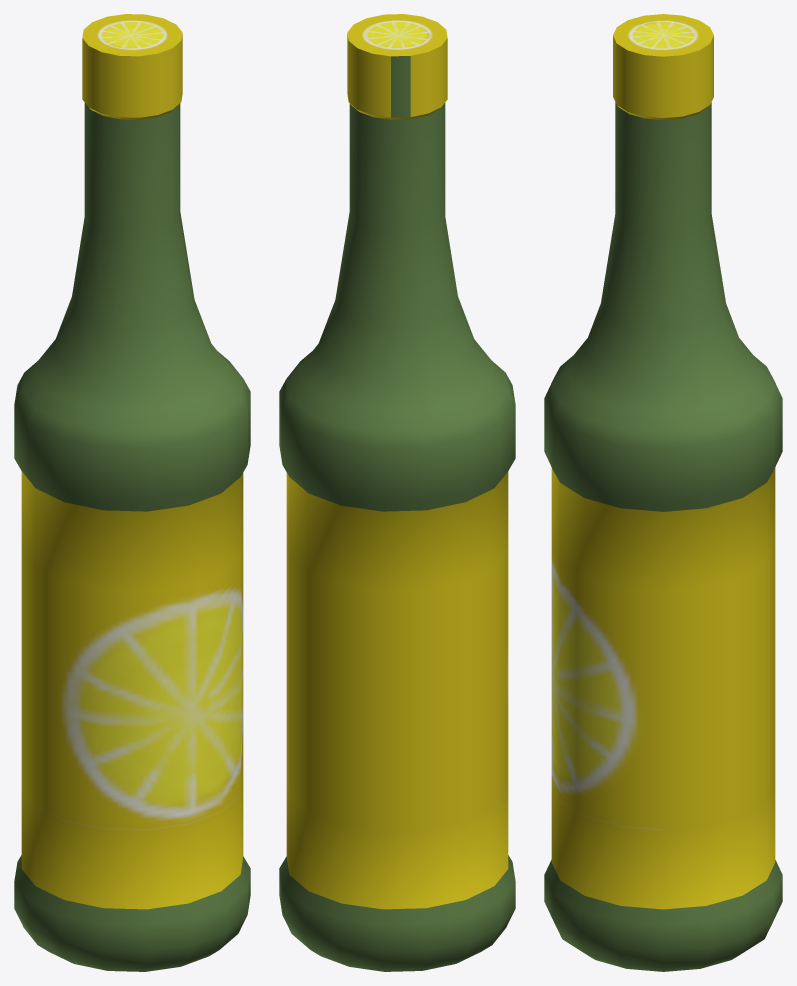
File: bottle-lemonjuice.fbx
3 views of the same model, side by side, from view 1: azimuth 30°, elevation 25°; view 2: azimuth 150°, elevation 25°; view 3: azimuth 270°, elevation 25° (orthographic).
Parts seen in each view (by area): view 1: bottle_lemonjuice; view 2: bottle_lemonjuice; view 3: bottle_lemonjuice.
Part boxes in pixels (x1,y1,x2,y2): bottle_lemonjuice: [14, 14, 250, 971]; bottle_lemonjuice: [279, 14, 515, 971]; bottle_lemonjuice: [544, 14, 782, 971].
Bounding box in the file's own units: 0.0588 × 0.2439 × 0.0588.
